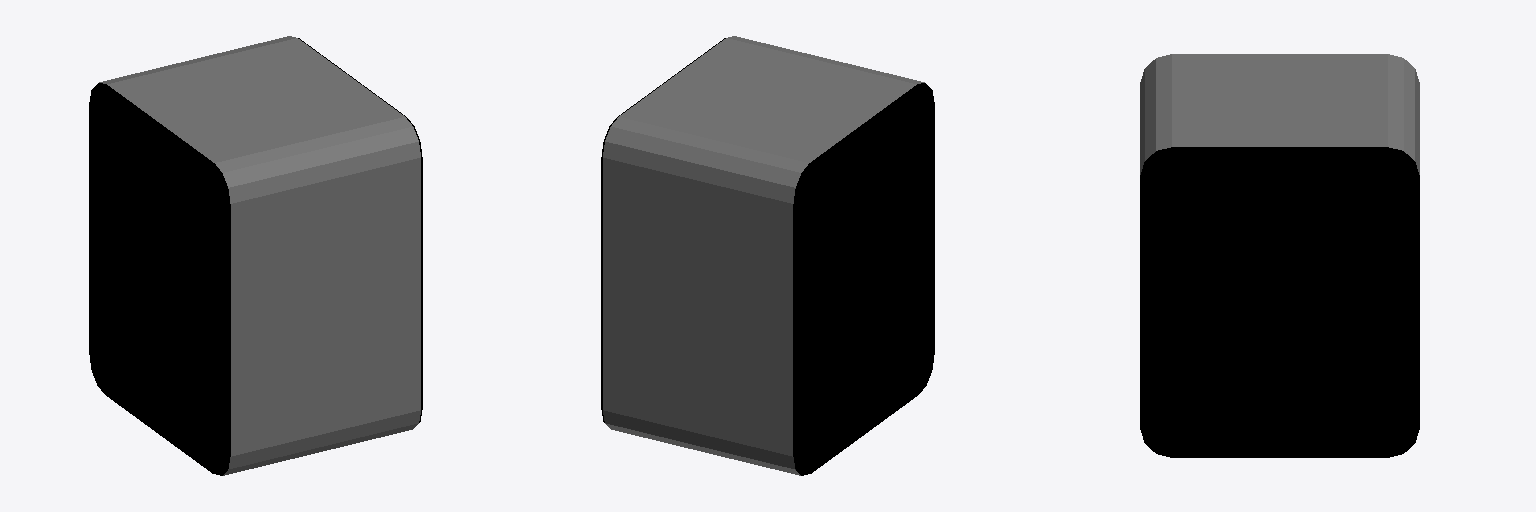
File: Computer_monitor.obj
The picture shows the model from 3 angles: view 1: azimuth 30°, elevation 25°; view 2: azimuth 150°, elevation 25°; view 3: azimuth 270°, elevation 25°; orthographic projection.
Visible parts, largest first — view 1: Computer1 ComputerSetup; view 2: Computer1 ComputerSetup; view 3: Computer1 ComputerSetup.
Boxes of the visible parts, box(x1,y1,x2,y2) form: Computer1 ComputerSetup: box(89, 36, 422, 475); Computer1 ComputerSetup: box(601, 36, 934, 475); Computer1 ComputerSetup: box(1140, 54, 1419, 457).
Bounding box in the file's own units: 1 × 1.52 × 1.24.